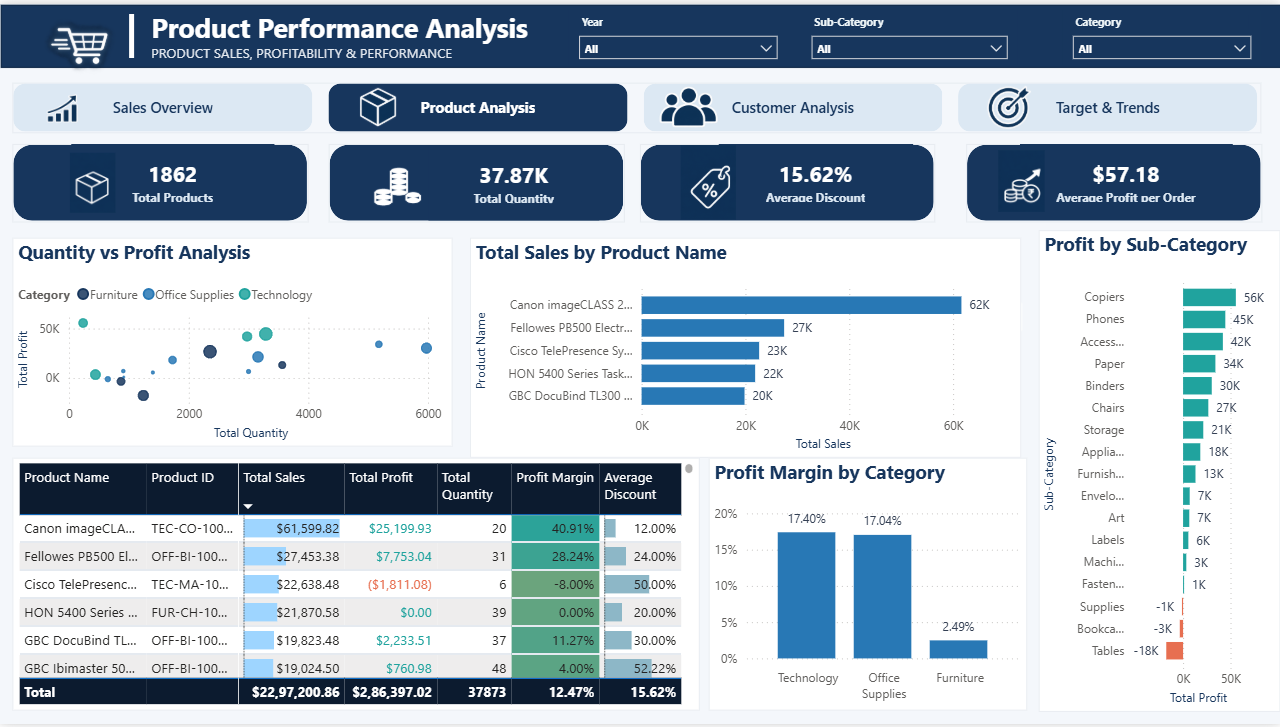

Layout of this report page (visuals, bound fields, positions):
{"tool":"powerbi","page":{"name":"Product Analysis","canvas":[1280,720],"ordinal":1},"visuals":[{"type":"shape","box":[640,140,295,78],"z":0},{"type":"shape","box":[12.9,140,295.7,78],"z":1000},{"type":"shape","box":[328.6,140,295.7,78],"z":2000},{"type":"shape","box":[965.7,140,295.7,78],"z":3000},{"type":"shape","box":[0,0,1400,65],"z":4000},{"type":"textbox","box":[145.7,0,428.6,65.7],"z":5000},{"type":"image","box":[10,10,142.9,65.7],"z":6000},{"type":"pageNavigator","box":[12.9,78.6,1248.6,50],"z":7000},{"type":"image","box":[230,301.4,87.1,77.1],"z":8000},{"type":"image","box":[108.6,251.4,121.4,42.9],"z":9000},{"type":"slicer","title":"Year","fields":{"Values":["Dim_Date.Year"]},"box":[568.6,5.7,218.6,54.3],"z":10000},{"type":"slicer","fields":{"Values":["Fact_Sales.Category"]},"box":[1062.9,5.7,198.6,54.3],"z":11000},{"type":"image","box":[354.3,148.6,87.1,67.1],"z":12000},{"type":"image","box":[965.7,272.9,72.9,67.1],"z":13000},{"type":"image","box":[977.1,78.6,61.4,48.6],"z":14000},{"type":"image","box":[34.3,87.1,57.1,34.3],"z":15000},{"type":"image","box":[657.1,75.7,61.4,52.9],"z":16000},{"type":"image","box":[354.3,82.9,48.6,41.4],"z":17000},{"type":"shape","box":[108.6,10,45.7,44.3],"z":18000},{"type":"cardVisual","fields":{"Data":["Fact_Sales.Total Quantity"]},"box":[428.6,141.4,170,75],"z":19000},{"type":"cardVisual","fields":{"Data":["Fact_Sales.Total Products"]},"box":[71.4,140,203,75],"z":20000},{"type":"cardVisual","fields":{"Data":["Fact_Sales.Average Profit per Order"]},"box":[1020,140,212.9,75],"z":21000},{"type":"cardVisual","fields":{"Data":["Dim_Date.Average Discount"]},"box":[718.6,140,194.3,75],"z":22000},{"type":"clusteredBarChart","fields":{"Category":["Fact_Sales.Product Name"],"Y":["Fact_Sales.Total Sales"]},"box":[470,234.3,551.4,220],"z":23000},{"type":"clusteredBarChart","title":"Profit by Sub-Category","fields":{"Category":["Fact_Sales.Sub-Category"],"Y":["Fact_Sales.Total Profit"]},"box":[1038.6,225.7,241.4,481.4],"z":24000},{"type":"scatterChart","title":"Quantity vs Profit Analysis","fields":{"Category":["Fact_Sales.Sub-Category"],"Series":["Fact_Sales.Category"],"Size":["Fact_Sales.Total Sales"],"X":["Fact_Sales.Total Quantity"],"Y":["Fact_Sales.Total Profit"]},"box":[12.9,234.3,440,208.6],"z":25000},{"type":"slicer","fields":{"Values":["Fact_Sales.Sub-Category"]},"box":[801.4,5.7,216,54],"z":26000},{"type":"tableEx","fields":{"Values":["Fact_Sales.Product Name","Fact_Sales.Product ID","Fact_Sales.Total Sales","Fact_Sales.Total Profit","Fact_Sales.Total Quantity","Fact_Sales.Profit Margin","Fact_Sales.Average Discount"]},"box":[12.9,454.3,687.1,252.9],"z":27000},{"type":"clusteredColumnChart","title":"Profit Margin by Category","fields":{"Category":["Fact_Sales.Category"],"Y":["Fact_Sales.Profit Margin"]},"box":[708.6,454.3,318.6,252.9],"z":28000},{"type":"image","box":[55.7,148.6,72.9,60],"z":29000},{"type":"image","box":[657.1,141.4,101.4,74.3],"z":30000},{"type":"image","box":[985.7,145.7,70,61.4],"z":31000}]}

Visuals, with their boxes in screenshot pixels (x1, y1, x2, y2), scaled from the page's 1280x720 canvas onto the 1280x727 screenshot:
shape: (640,141,935,220)
shape: (13,141,309,220)
shape: (329,141,624,220)
shape: (966,141,1261,220)
shape: (0,0,1279,66)
textbox: (146,0,574,66)
image: (10,10,153,76)
pageNavigator: (13,79,1262,130)
image: (230,304,317,382)
image: (109,254,230,297)
"Year" slicer: (569,6,787,61)
slicer - Fact_Sales.Category: (1063,6,1262,61)
image: (354,150,441,218)
image: (966,276,1039,343)
image: (977,79,1038,128)
image: (34,88,91,123)
image: (657,76,718,130)
image: (354,84,403,126)
shape: (109,10,154,55)
cardVisual - Fact_Sales.Total Quantity: (429,143,599,219)
cardVisual - Fact_Sales.Total Products: (71,141,274,217)
cardVisual - Fact_Sales.Average Profit per Order: (1020,141,1233,217)
cardVisual - Dim_Date.Average Discount: (719,141,913,217)
clusteredBarChart - Fact_Sales.Product Name x Fact_Sales.Total Sales: (470,237,1021,459)
"Profit by Sub-Category" clusteredBarChart: (1039,228,1279,714)
"Quantity vs Profit Analysis" scatterChart: (13,237,453,447)
slicer - Fact_Sales.Sub-Category: (801,6,1017,60)
tableEx - Fact_Sales.Product Name x Fact_Sales.Product ID: (13,459,700,714)
"Profit Margin by Category" clusteredColumnChart: (709,459,1027,714)
image: (56,150,129,211)
image: (657,143,758,218)
image: (986,147,1056,209)
